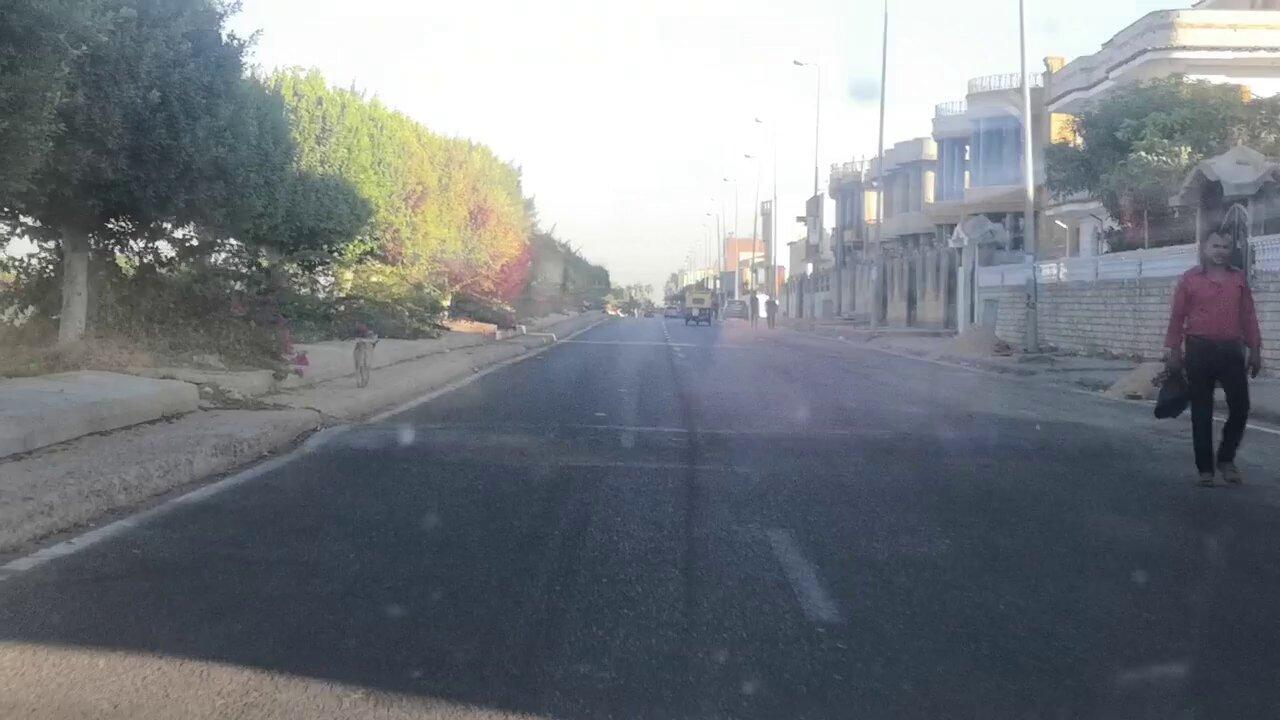Bump: (332, 415, 1233, 468)
